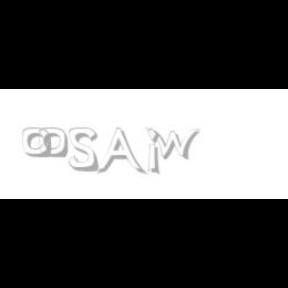A: (96, 128, 144, 176)
S: (68, 128, 100, 172)
i: (147, 128, 163, 176)
o: (22, 128, 51, 158), (39, 128, 68, 158)
w: (145, 128, 204, 160)
